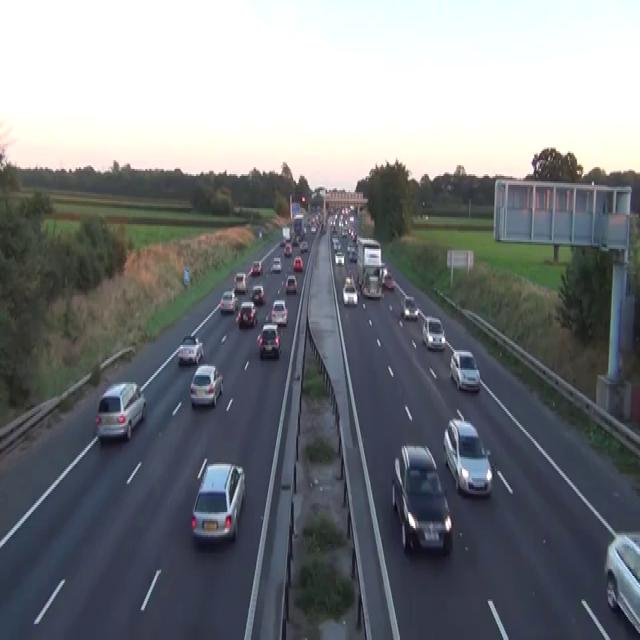Car: (391, 442, 452, 554), (190, 459, 245, 544), (443, 409, 494, 496), (604, 532, 639, 634), (95, 380, 146, 441), (189, 365, 223, 407), (449, 349, 480, 391), (257, 324, 281, 359), (421, 316, 445, 351), (177, 334, 203, 364), (236, 301, 257, 327), (361, 276, 382, 298), (400, 295, 418, 320), (271, 299, 288, 325), (219, 290, 237, 313), (342, 281, 358, 306), (233, 272, 247, 293), (251, 284, 264, 304), (285, 274, 297, 293), (383, 272, 394, 290), (346, 244, 357, 262), (250, 260, 262, 276), (271, 256, 282, 272), (334, 249, 344, 265), (293, 256, 303, 270), (283, 242, 292, 256), (348, 228, 357, 240), (332, 237, 340, 250), (344, 276, 354, 286), (299, 240, 308, 251), (310, 217, 316, 233), (446, 182, 455, 190), (292, 235, 299, 245), (280, 237, 286, 247), (310, 224, 316, 233), (330, 221, 335, 231), (341, 228, 347, 236), (258, 228, 262, 238), (349, 214, 354, 222), (302, 224, 306, 233)
Truck: (356, 236, 385, 298)
